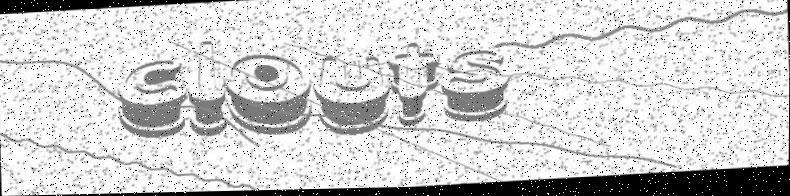c: (115, 59, 190, 141)
l: (187, 39, 229, 138)
o: (223, 52, 315, 138)
s: (440, 49, 512, 126)
t: (387, 42, 441, 131)
u: (313, 51, 393, 139)
